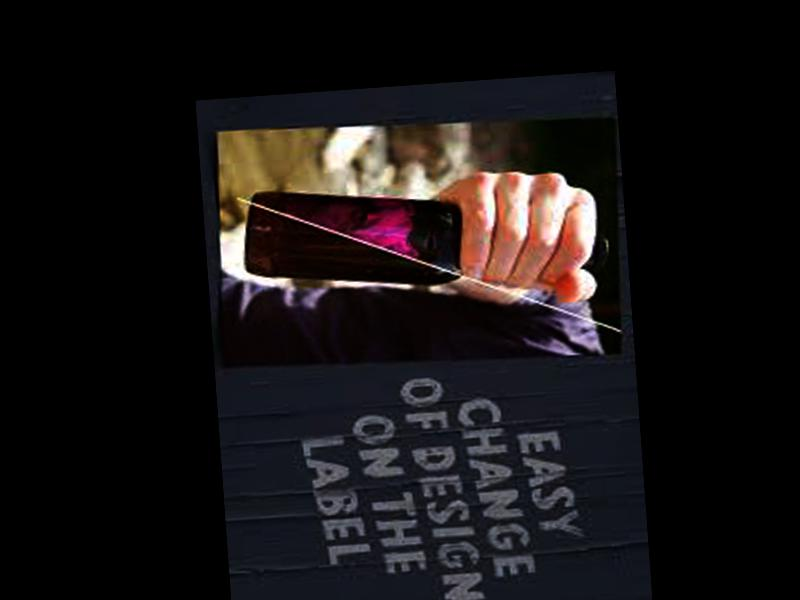Beer: (241, 172, 607, 299)
